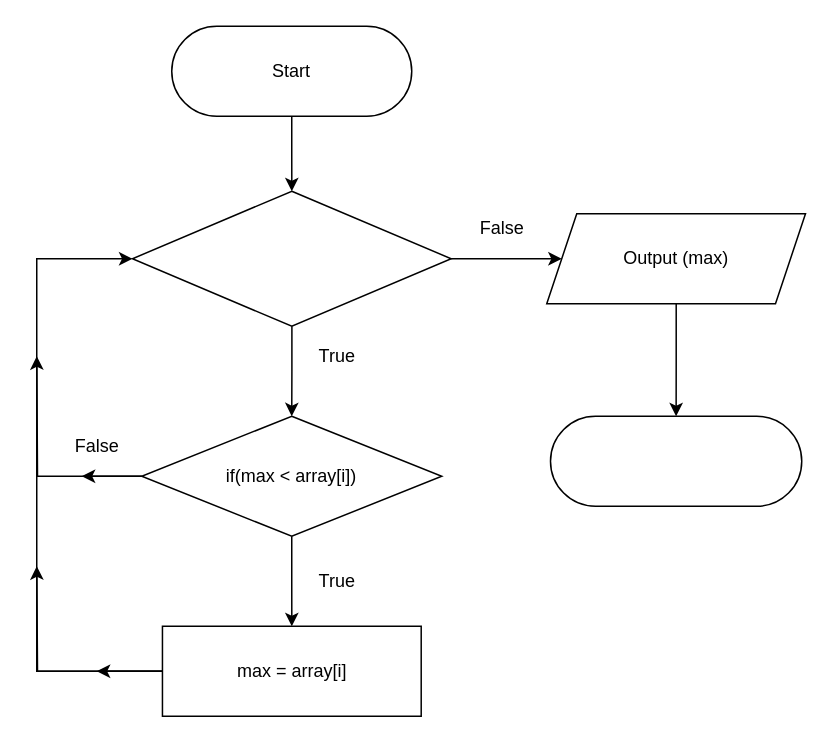
This 833x743 diagram has some shape labels left out. The centre of each missing label's shape, as x and y in pixels:
End: [675,460]
for(i = 0; i < array.length; i++): [291,258]
